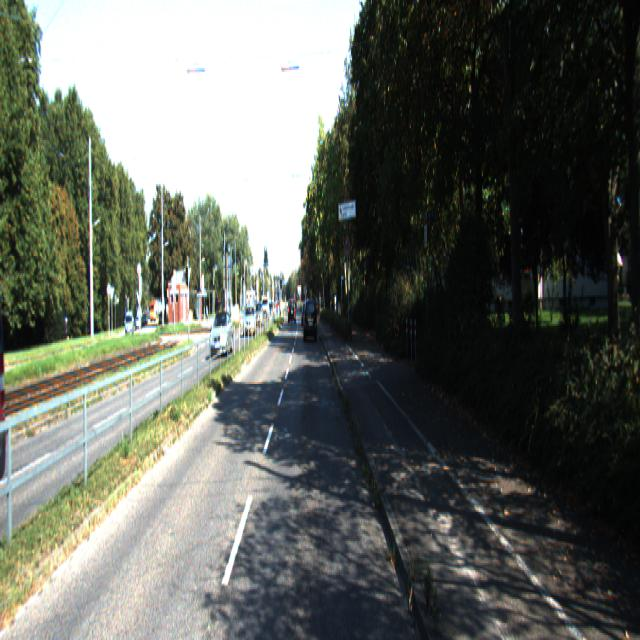Car: (209, 311, 234, 360), (304, 299, 318, 344)
